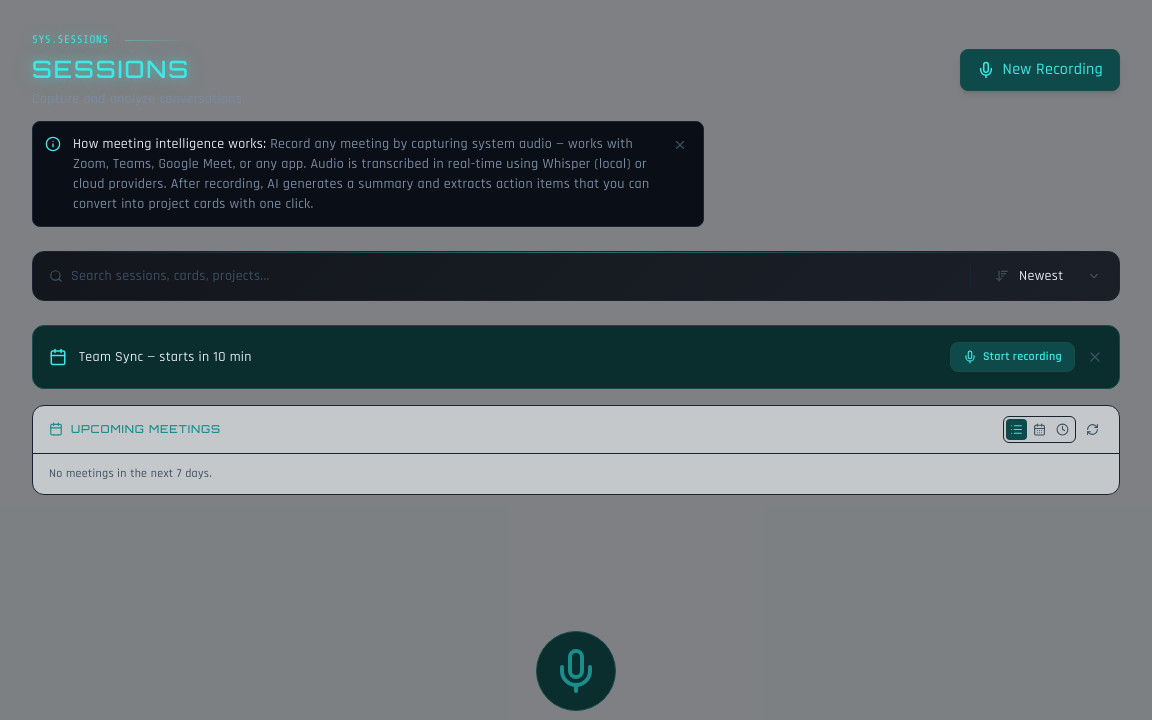
Test: SessionsHome — calendar ribbon (Phase G Task 4) › modal: clicking the ribbon title opens the details dialog for that event
Click the button "Team Sync — starts in 10 min" at (111, 356), box [79,346,938,366]
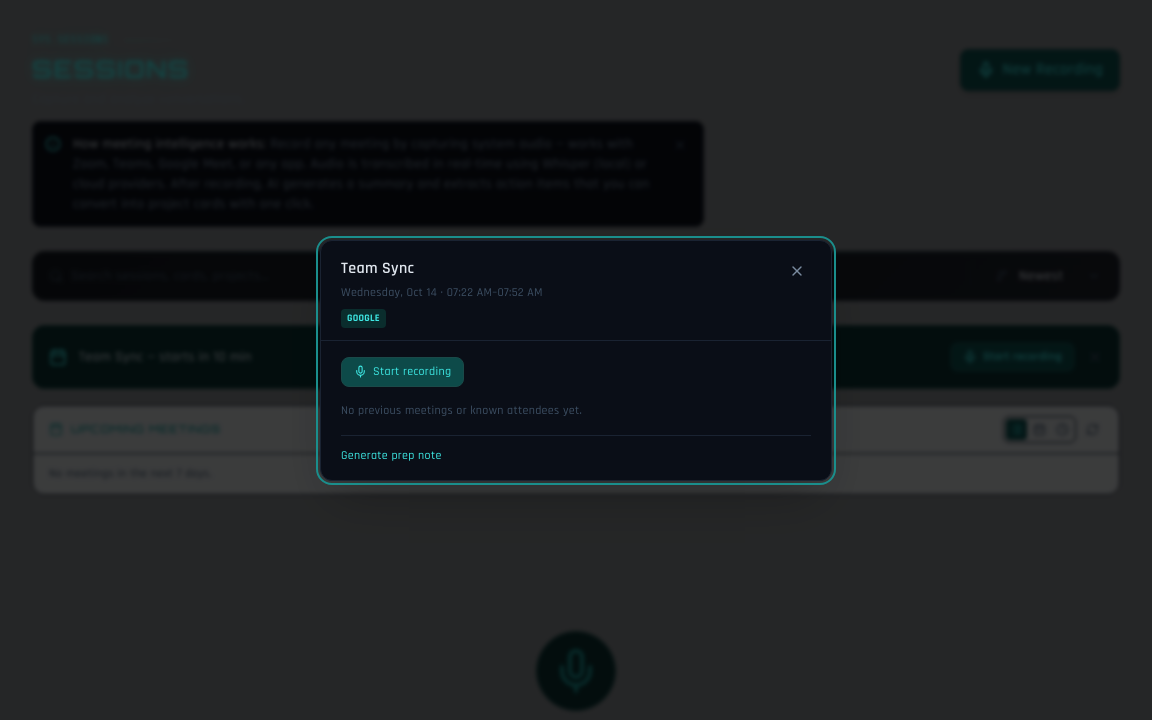
expect the heading "Team Sync" is shown: met, box [341,258,414,278]
